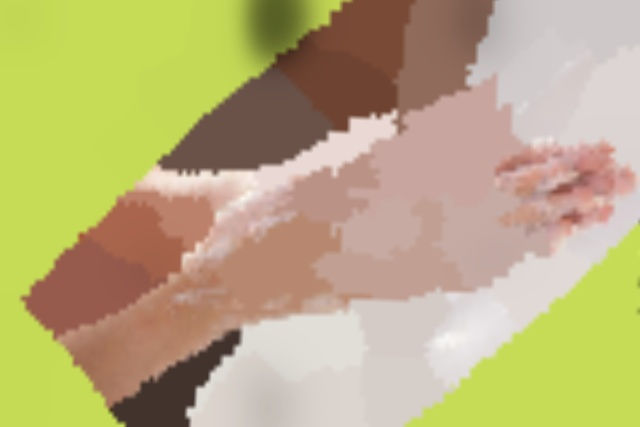washing hand: (164, 0, 639, 426)
